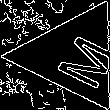M_NW: (35, 23, 110, 88)
